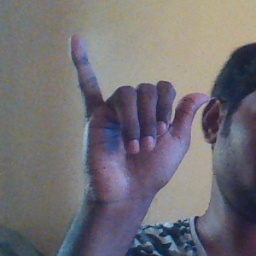J: (67, 30, 211, 195)
